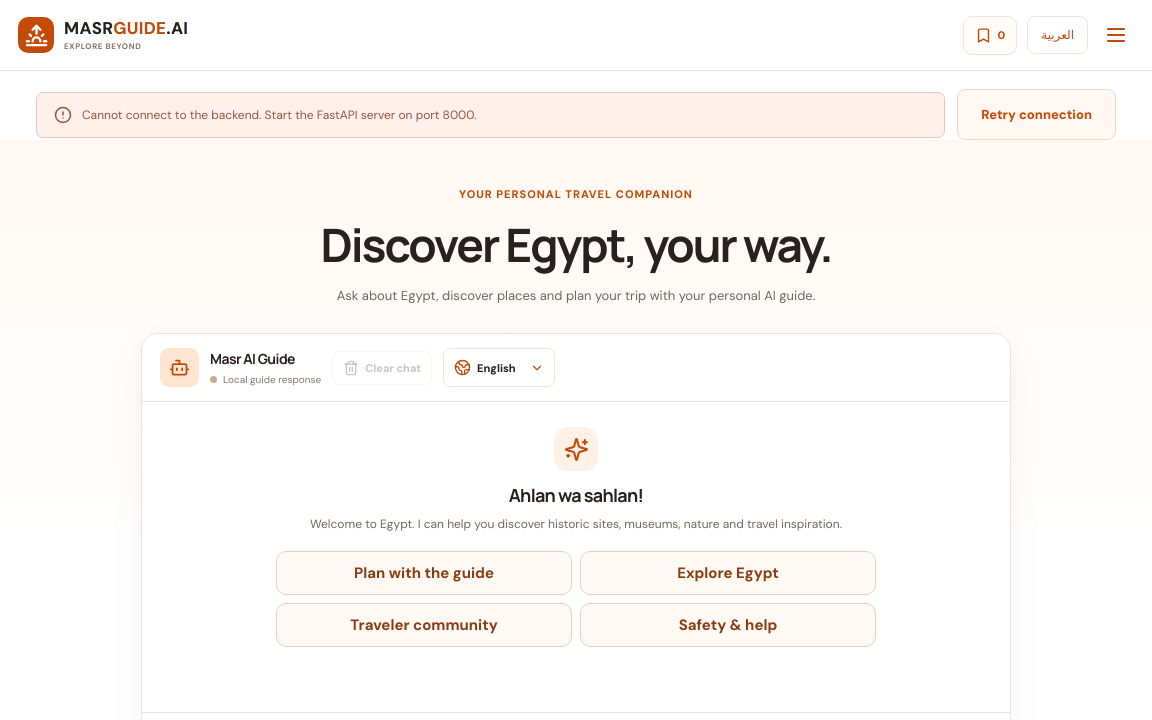
Test case: GitHub release fixes › allows retry after a failed initial metadata request
The image size is (1152, 720).
What coordinates should you click on to do the following:
click the button "Retry connection"
I would click on:
 (1037, 114)
Its box is [957,89,1116,140].
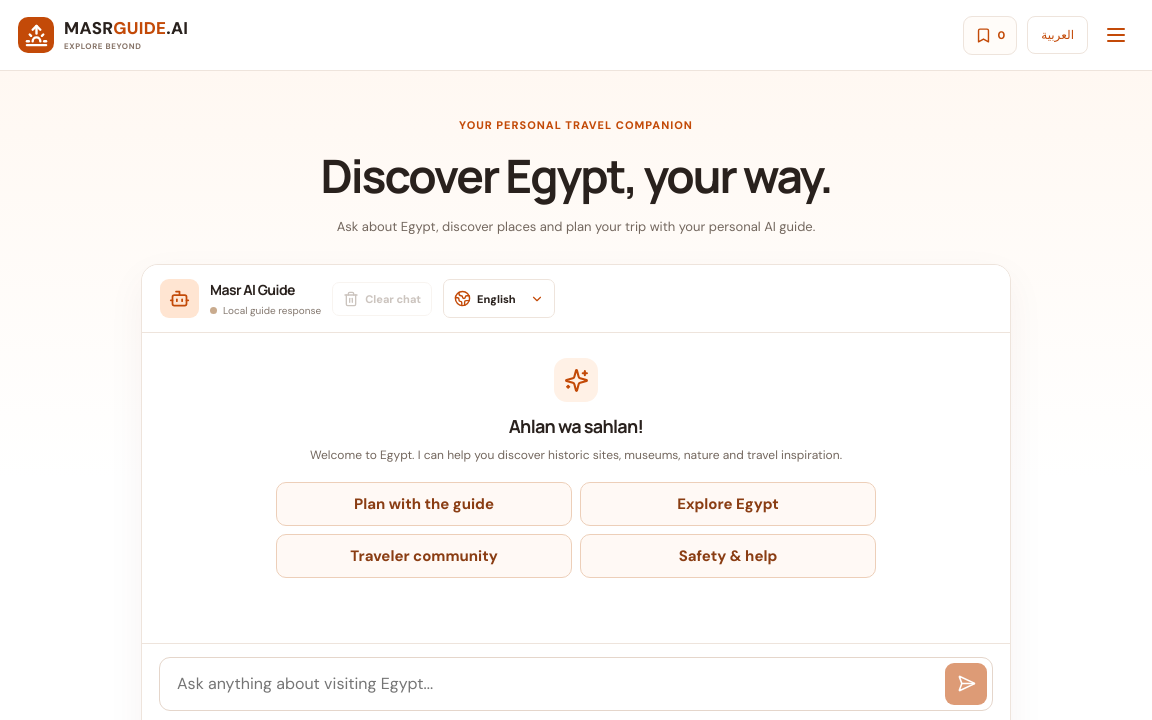
Now the button "Retry connection" is gone
